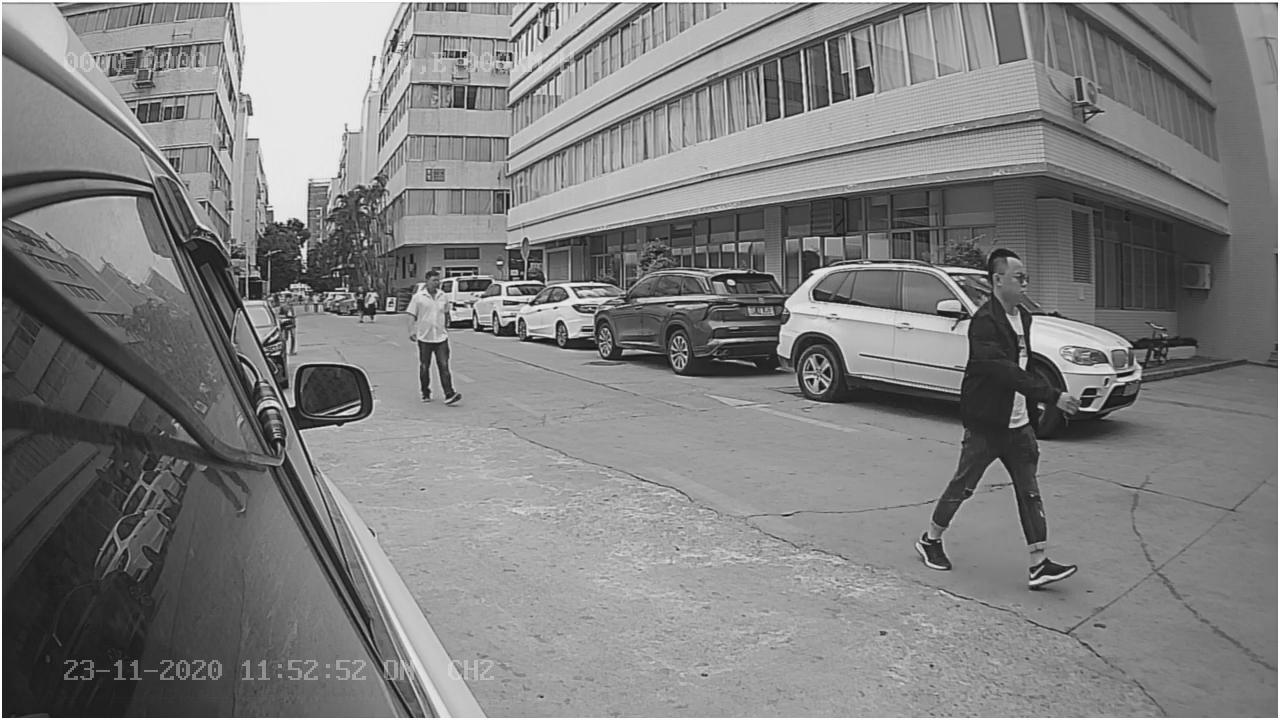person: (941, 246, 1069, 588)
